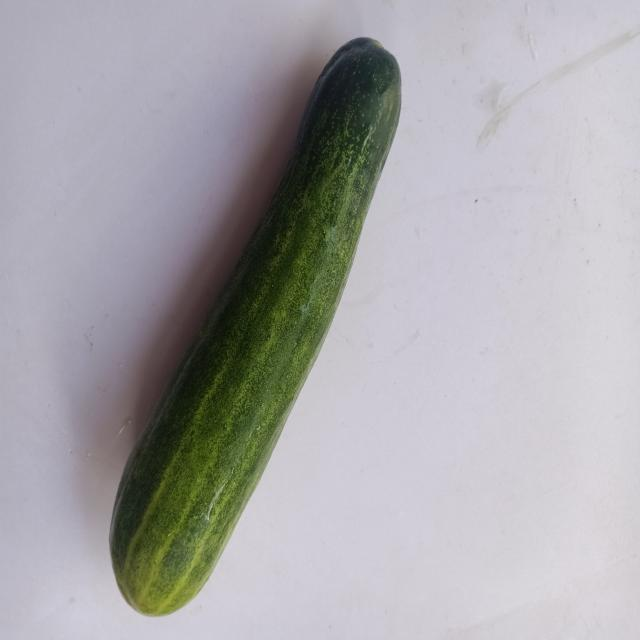Cucumber: (36, 20, 464, 633)
